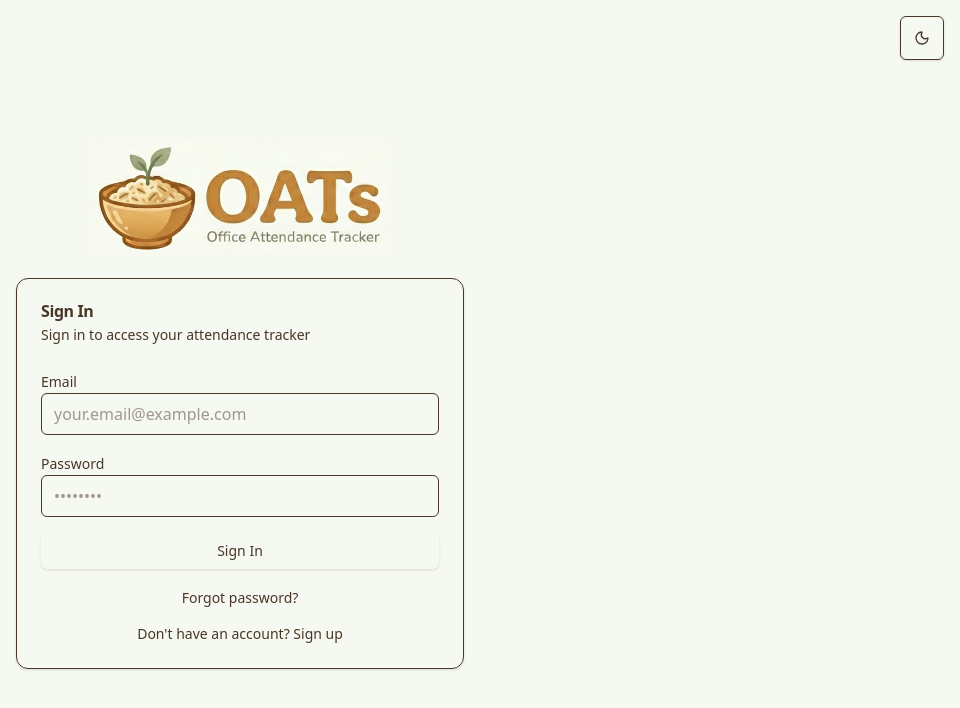
LoginPage › Rendering › should switch to sign up mode
Click the button "Sign up" at (318, 634), box [293, 624, 343, 644]
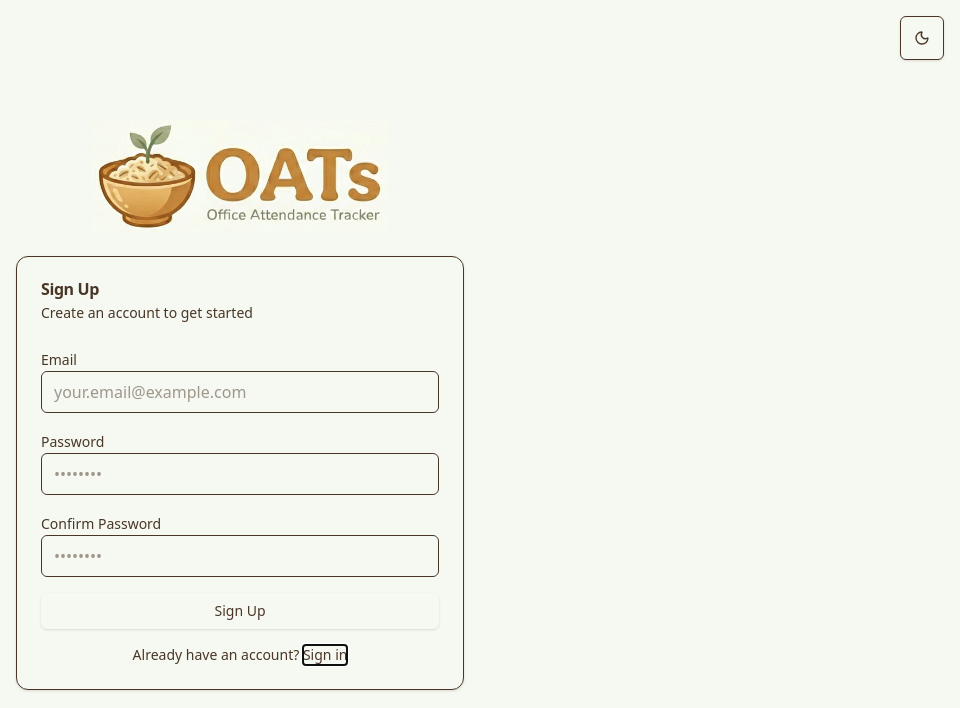
Expected: the password field labelled "Confirm Password" is shown, [41, 535, 439, 577]
Expected: the button "Forgot password" is gone
